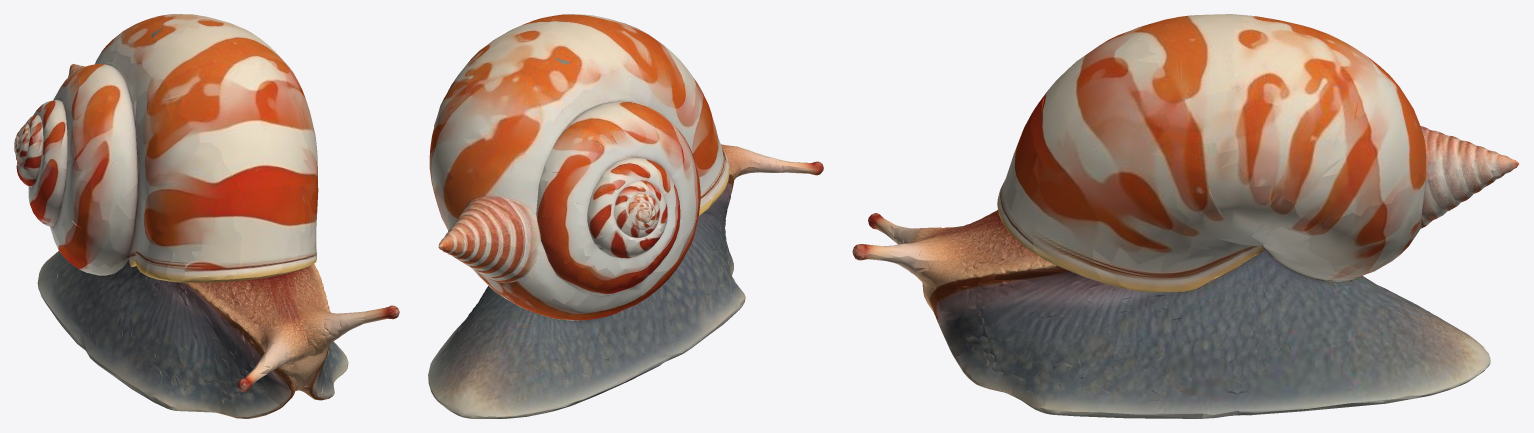
The model's file is sea-snail.glb.
3 renders of one model, left to right at view 1: azimuth 30°, elevation 25°; view 2: azimuth 150°, elevation 25°; view 3: azimuth 270°, elevation 25°, orthographic. The views are drawn at different scales.
Bounding box in the file's own units: 0.899 × 1.1 × 1.89.
1 material, 1 textured.
